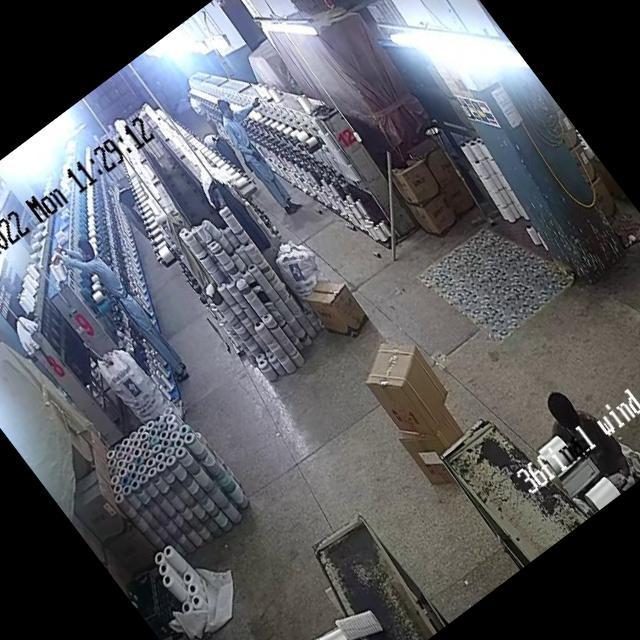person: (72, 234, 198, 387), (193, 81, 300, 211), (535, 377, 619, 468), (112, 186, 164, 241)
